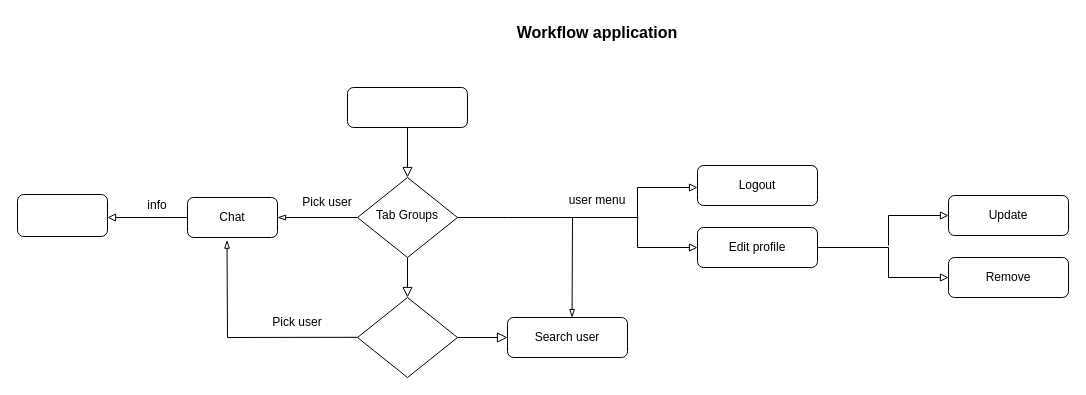
Some shapes in this 1086 by 395 pixel diagram are drawn without their labels. Each missing label, with the centre of its shape:
Edit chat room: the point at 62,215
Login: the point at 407,107
Tab Users: the point at 407,337
